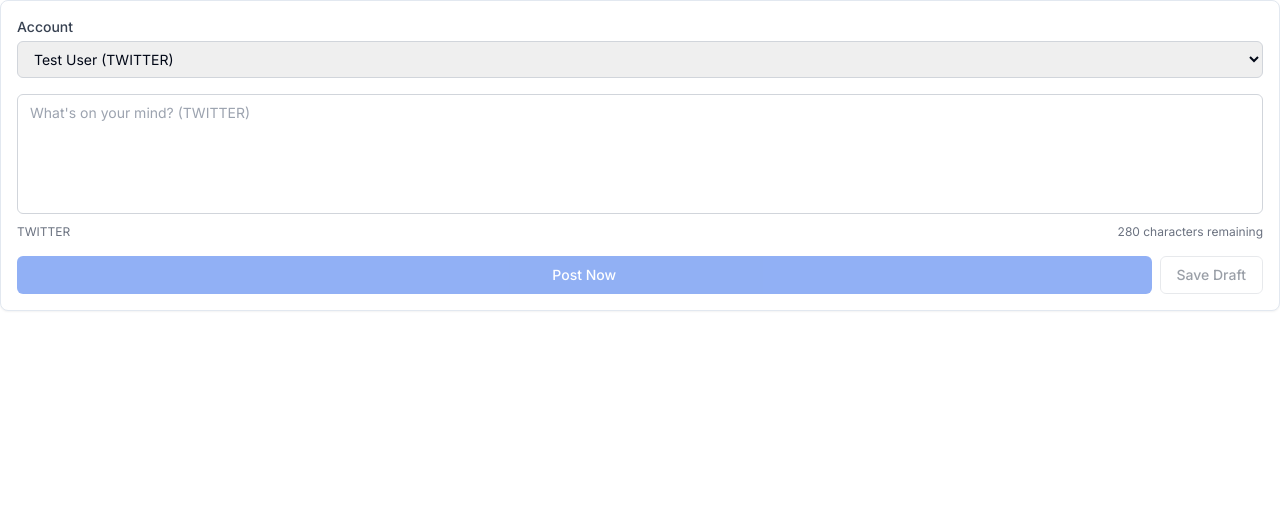
Test case: PostComposer › should update character count when typing
The image size is (1280, 508).
Type "Hello world!" into the text box named "Post content". click: coordinates (640, 154)
box: x1=17 y1=94 x2=1263 y2=214
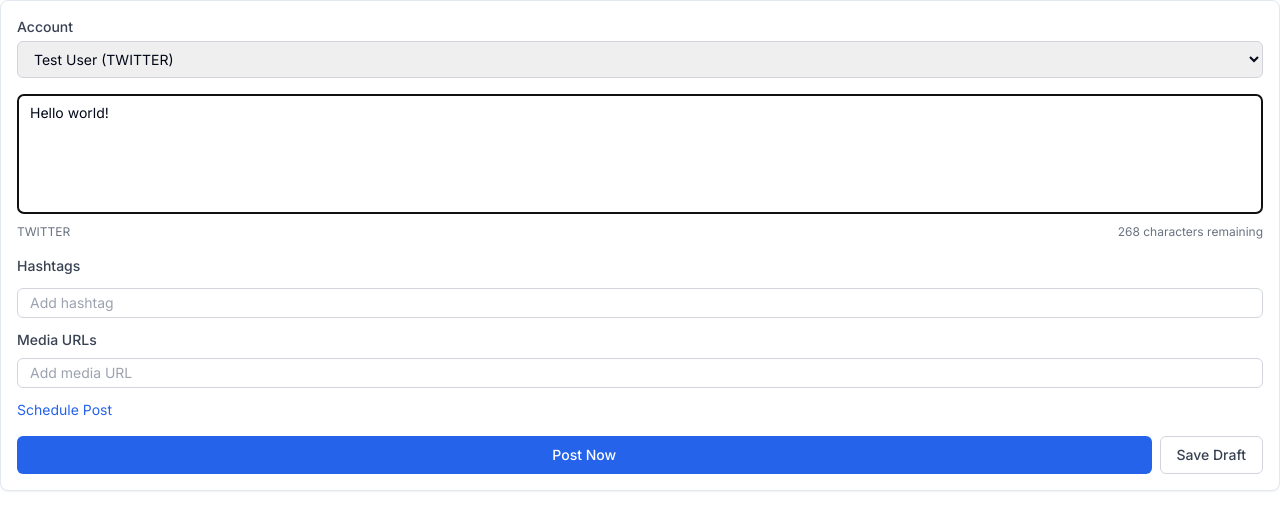
Expected: the text "268 characters remaining" is shown, x1=1118 y1=224 x2=1263 y2=240
